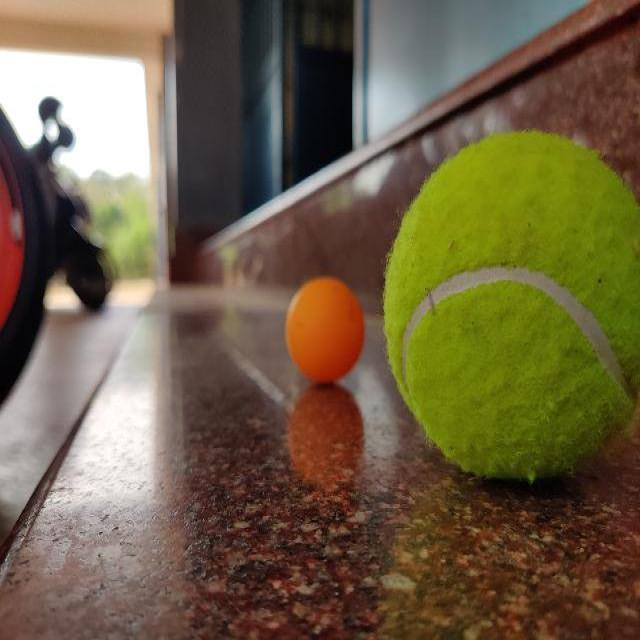oball: (284, 276, 366, 383)
